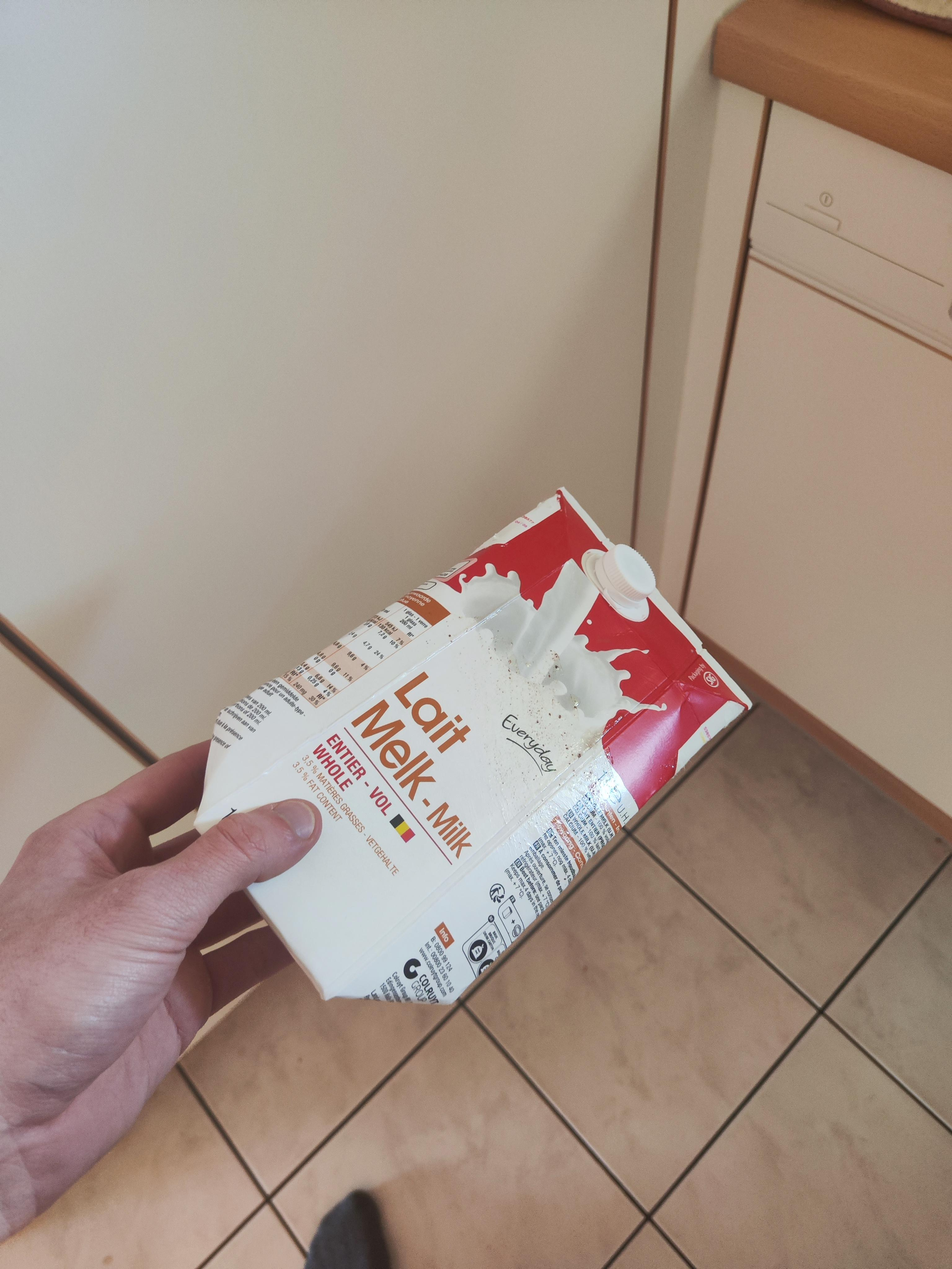Cardboard: (195, 480, 757, 1001)
Plastic: (587, 533, 657, 614)
